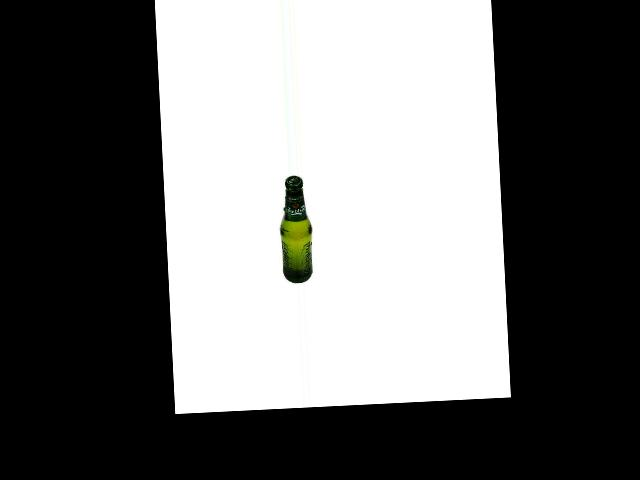beer: (277, 175, 313, 284)
